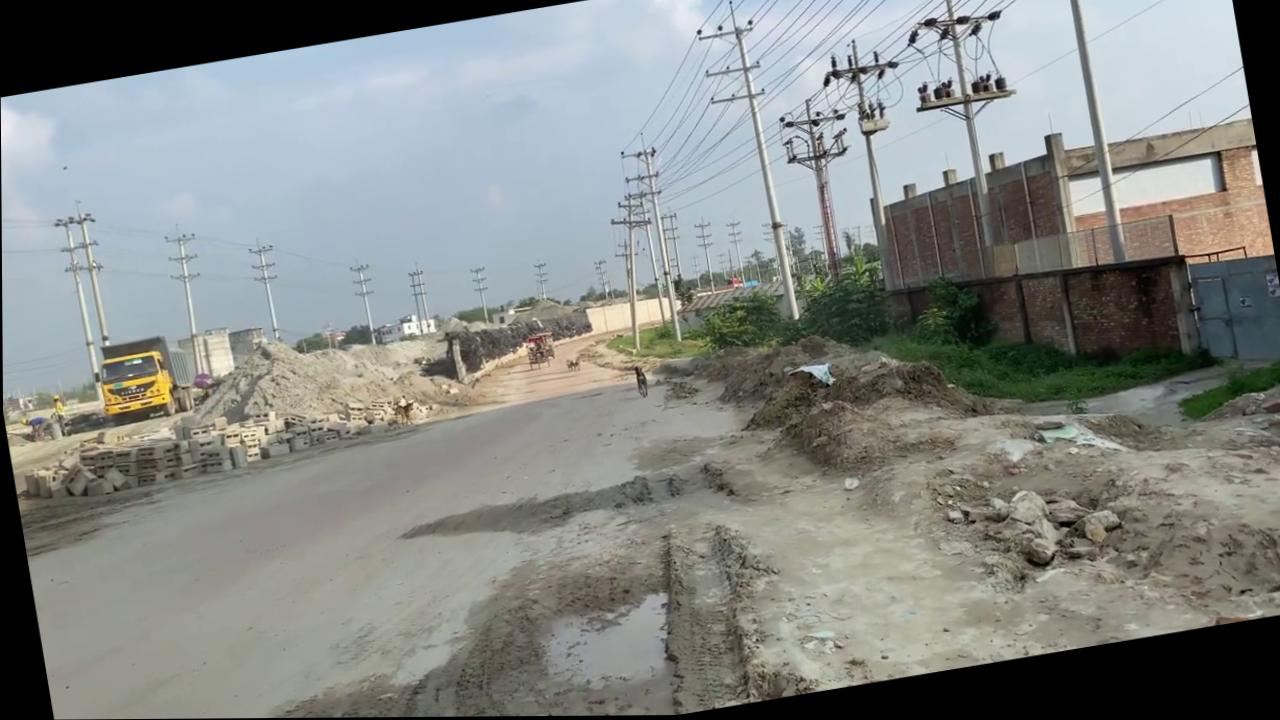Dog: (631, 364, 655, 399), (564, 357, 580, 372)
Garbage: (16, 378, 430, 506)
Muddy road: (438, 220, 1280, 717)
Pole: (691, 0, 804, 330), (1054, 0, 1128, 265), (52, 215, 103, 403), (160, 220, 217, 377), (69, 197, 115, 349), (246, 235, 288, 343), (347, 259, 382, 345)
Tree: (89, 330, 196, 427), (522, 331, 557, 370)
